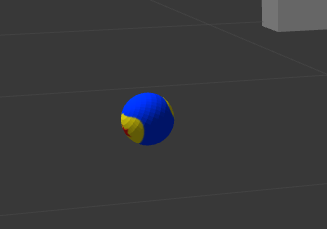toy_story_ball: (120, 93, 176, 146)
